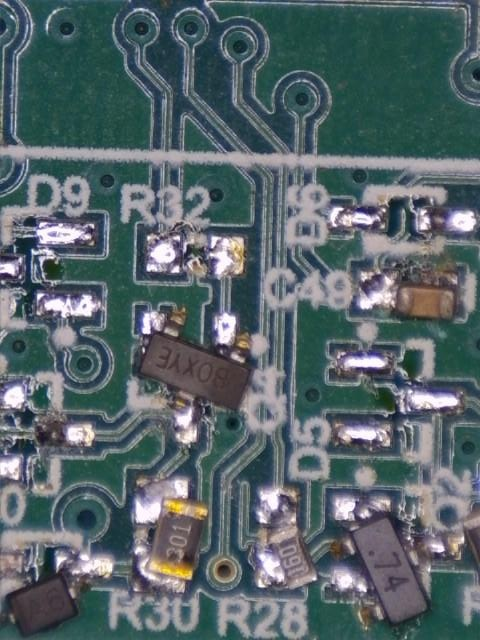pcb_defect: (329, 496, 463, 628), (137, 310, 254, 442), (0, 554, 112, 639), (131, 480, 210, 594), (253, 490, 318, 590), (357, 269, 458, 322)
